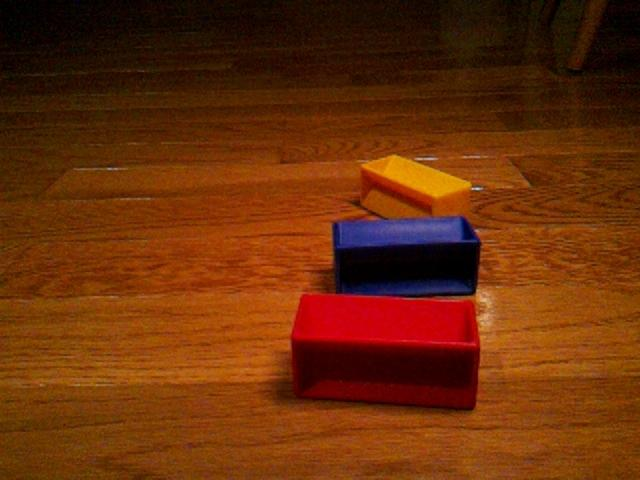blue: (331, 215, 482, 296)
red: (290, 291, 481, 411)
yellow: (358, 153, 473, 220)
